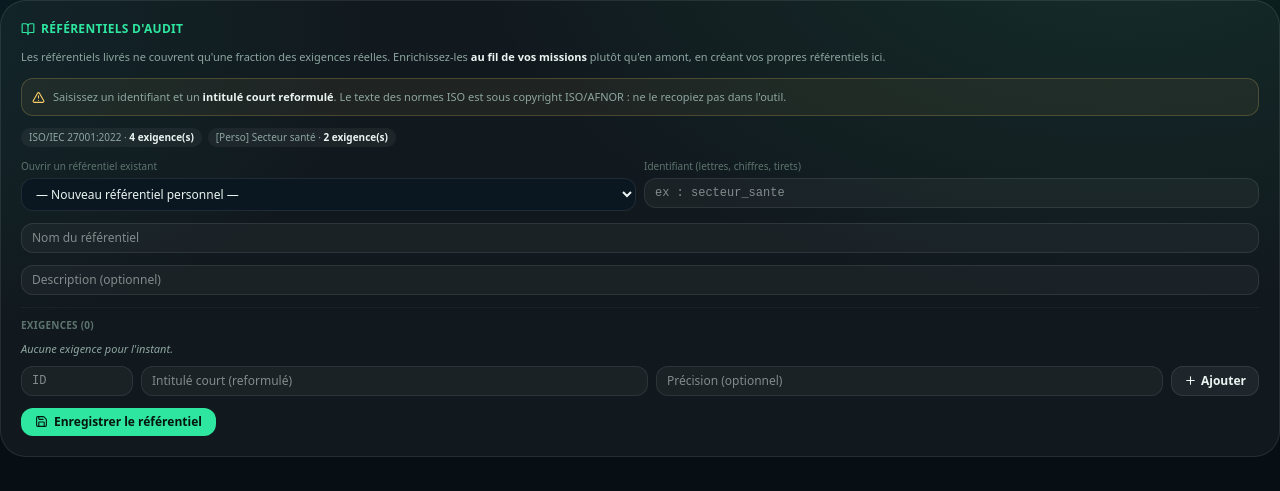
Test case: ReferentielsPanel › ajoute une exigence à la liste
Type "SANTE-02" into the field named "Identifiant de l'exigence" at (77, 380), box [21, 366, 133, 396]
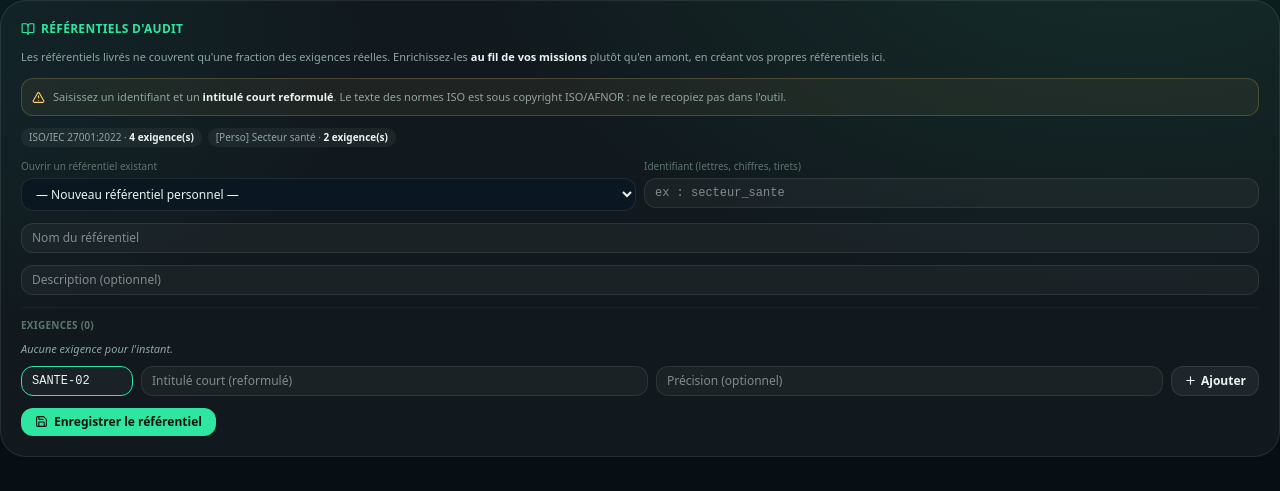
Type "Chiffrement des données de santé" into the field named "Intitulé de l'exigence" at (394, 380), box [141, 366, 648, 396]
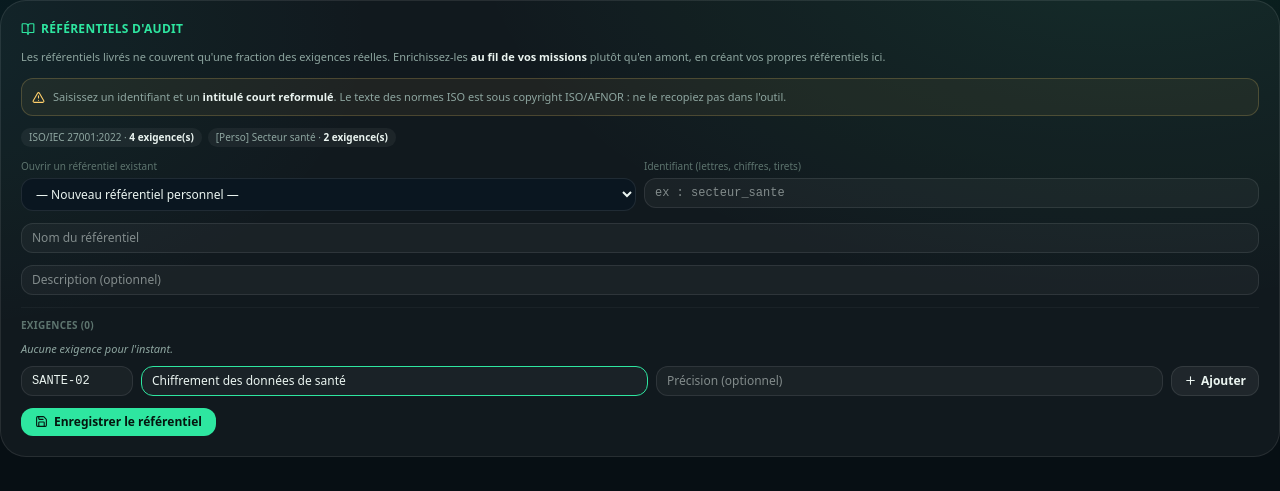
Click the button "Ajouter" at (1215, 380), box [1171, 366, 1259, 396]
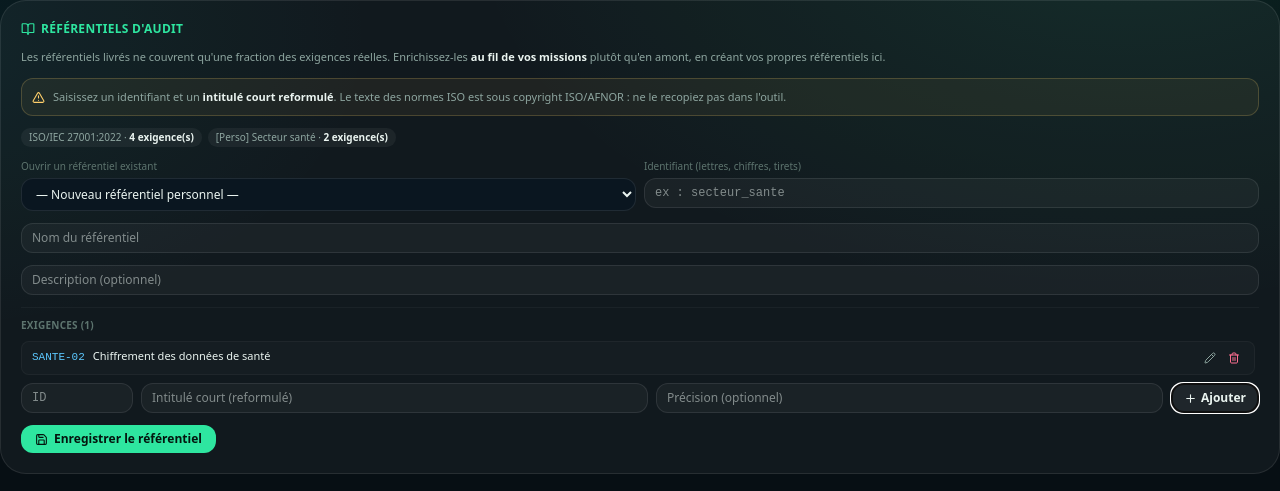
Check: the text "SANTE-02" is shown, box [32, 351, 85, 363]
Check: the text "Chiffrement des données de santé" is shown, box [93, 348, 270, 363]
